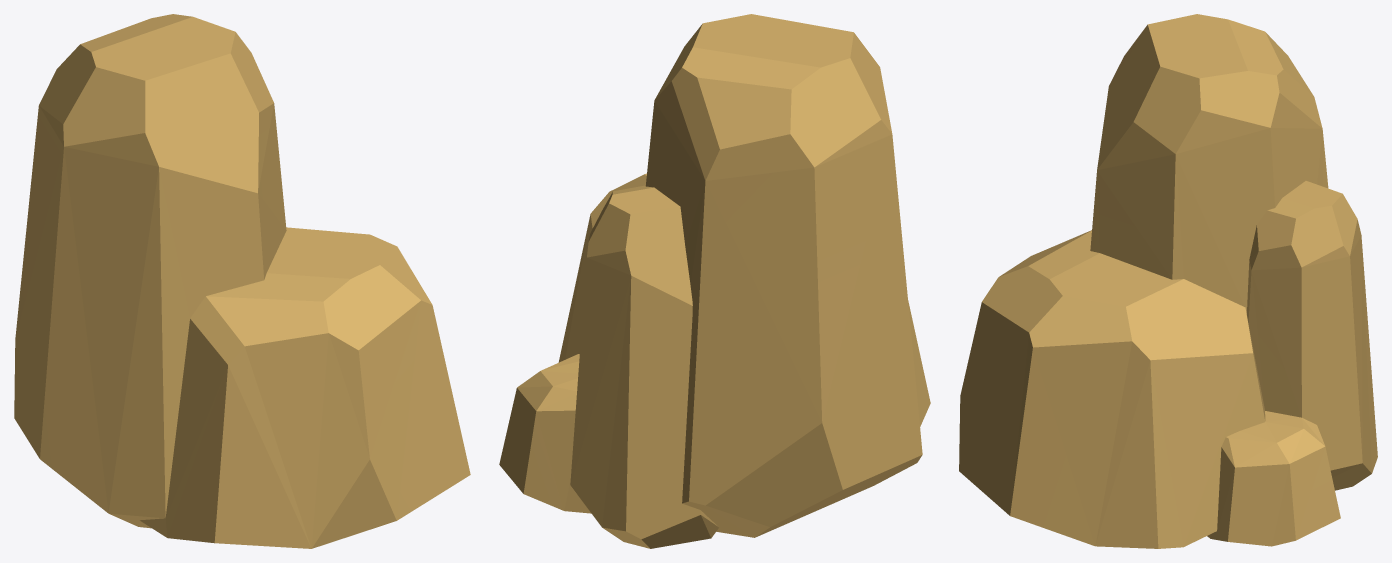
Rendered from SL_Mountain.fbx.
3 renders of one model, left to right at view 1: azimuth 30°, elevation 25°; view 2: azimuth 150°, elevation 25°; view 3: azimuth 270°, elevation 25°, orthographic. The views are drawn at different scales.
Parts seen in each view (by area): view 1: crystal_16.002; view 2: crystal_16.002; view 3: crystal_16.002.
Boxes of the visible parts, x1,y1,x2,y2 form: crystal_16.002: (14, 14, 470, 548); crystal_16.002: (499, 14, 930, 548); crystal_16.002: (959, 14, 1377, 548).
Bounding box in the file's own units: 3328 × 3745 × 3461.
